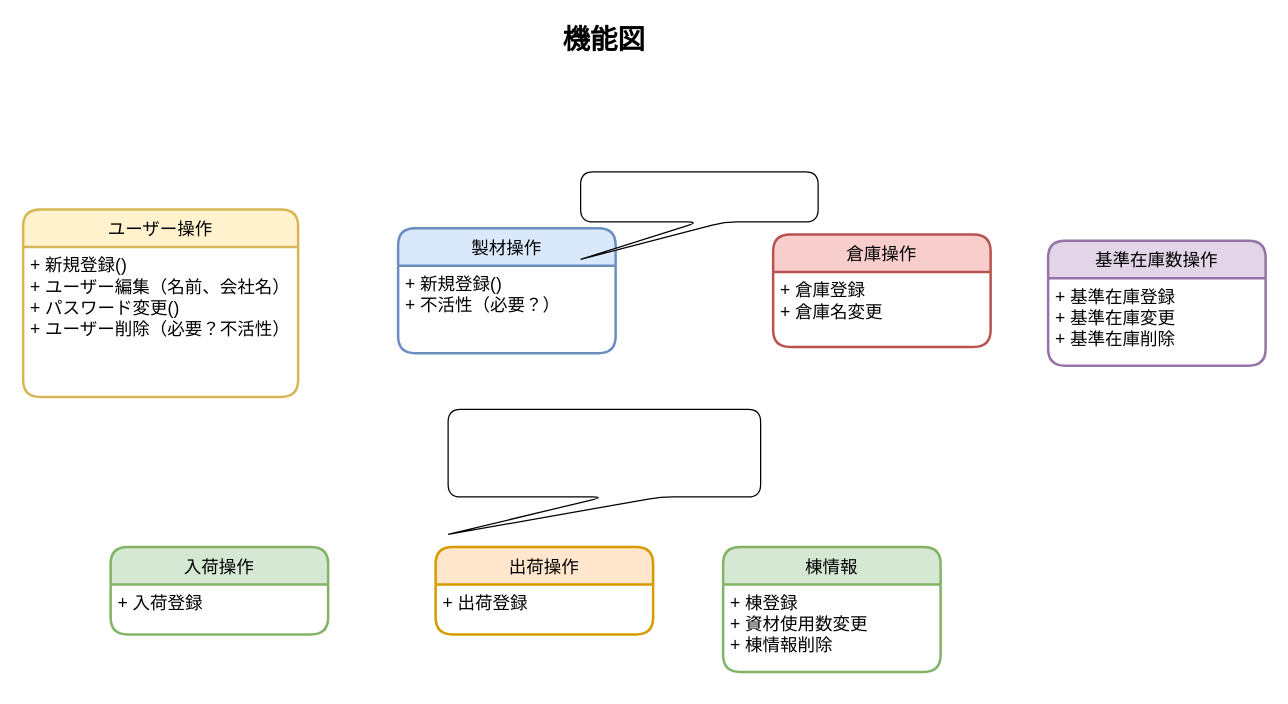
Some shapes in this 1288 by 704 pixel diagram are drawn without their labels. The centre of each missing label's shape, as x and y in pixels:
入荷や出荷をすると在庫数が増える、棟情報を登録すると必要数が増える: the point at 604,471
寸法は変更不可: the point at 698,215
